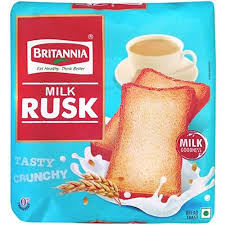Britania-toast-small: (9, 3, 215, 219)
